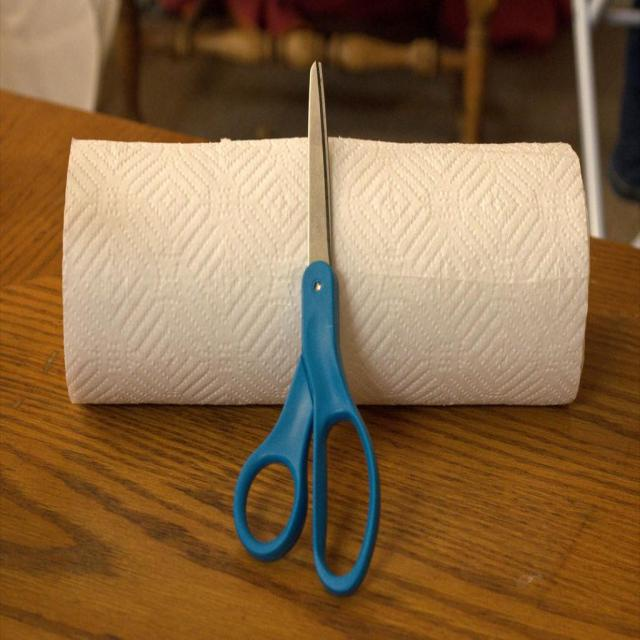scissor: (232, 61, 384, 596)
